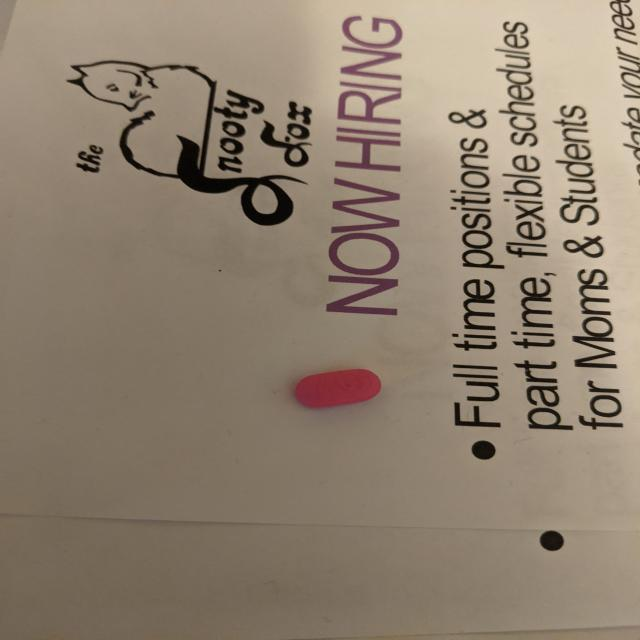non-organic waste: (293, 368, 382, 409)
